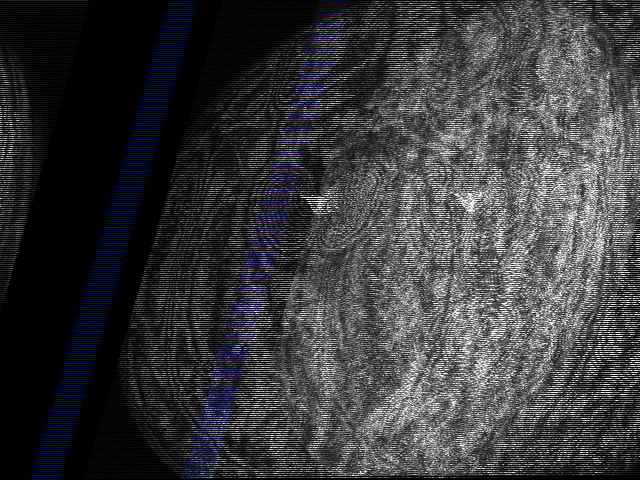plume: (252, 160, 382, 253)
